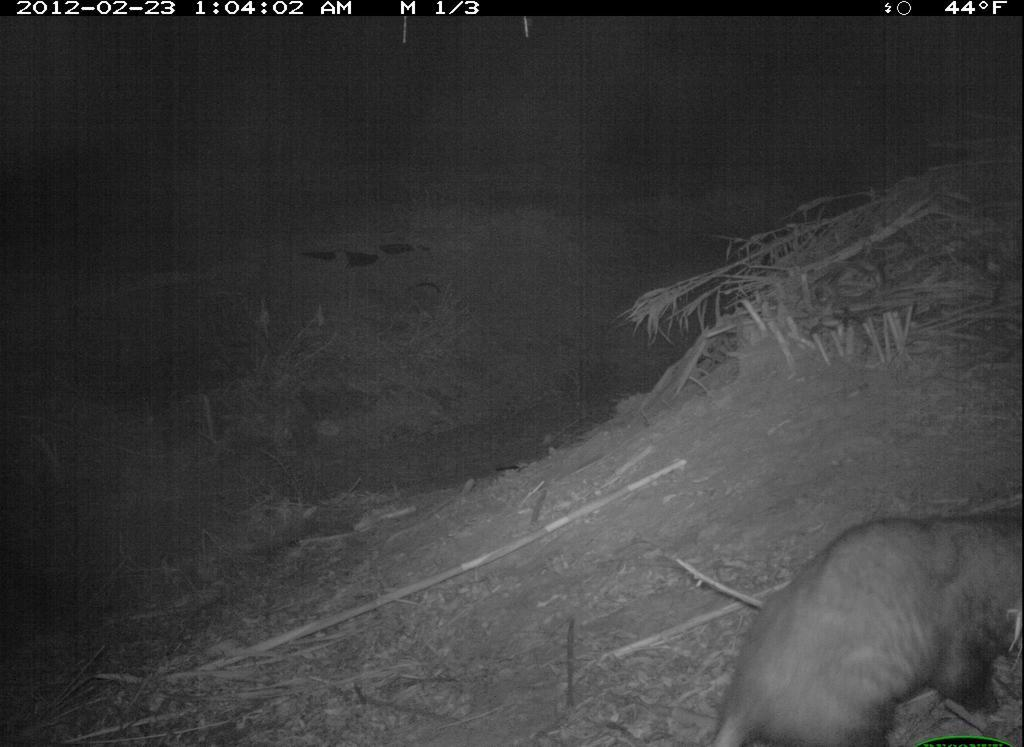opossum: (685, 475, 1021, 735)
